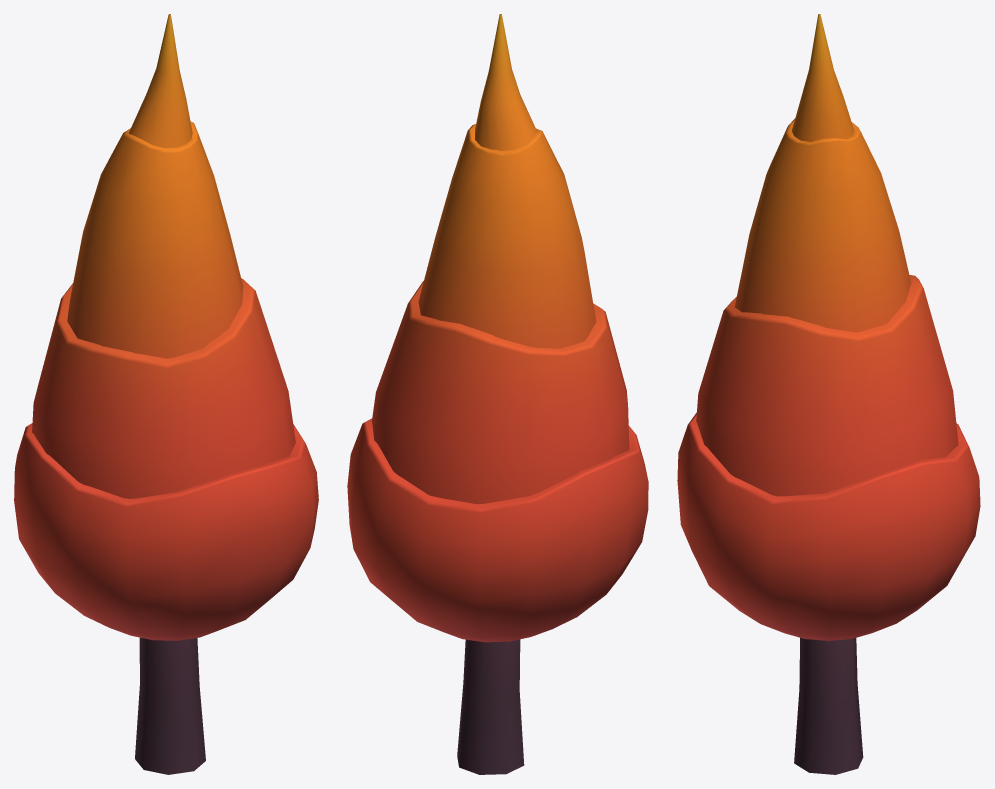
The model's file is tree_pack_02.glb.
3 renders of one model, left to right at view 1: azimuth 30°, elevation 25°; view 2: azimuth 150°, elevation 25°; view 3: azimuth 270°, elevation 25°, orthographic.
Parts seen in each view (by area): view 1: Tree.002; view 2: Tree.002; view 3: Tree.002.
Part boxes in pixels (<box>): Tree.002: <box>14,14,318,774</box>; Tree.002: <box>347,14,648,774</box>; Tree.002: <box>677,14,980,774</box>.
Size of the model in its own units: 2 by 5.4 by 1.99.
1 material, 1 textured.
